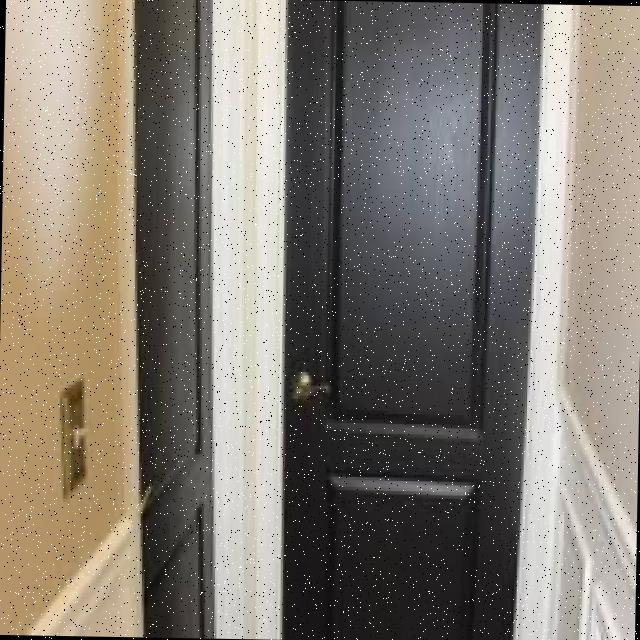Door: (262, 0, 551, 640), (114, 0, 231, 638)
